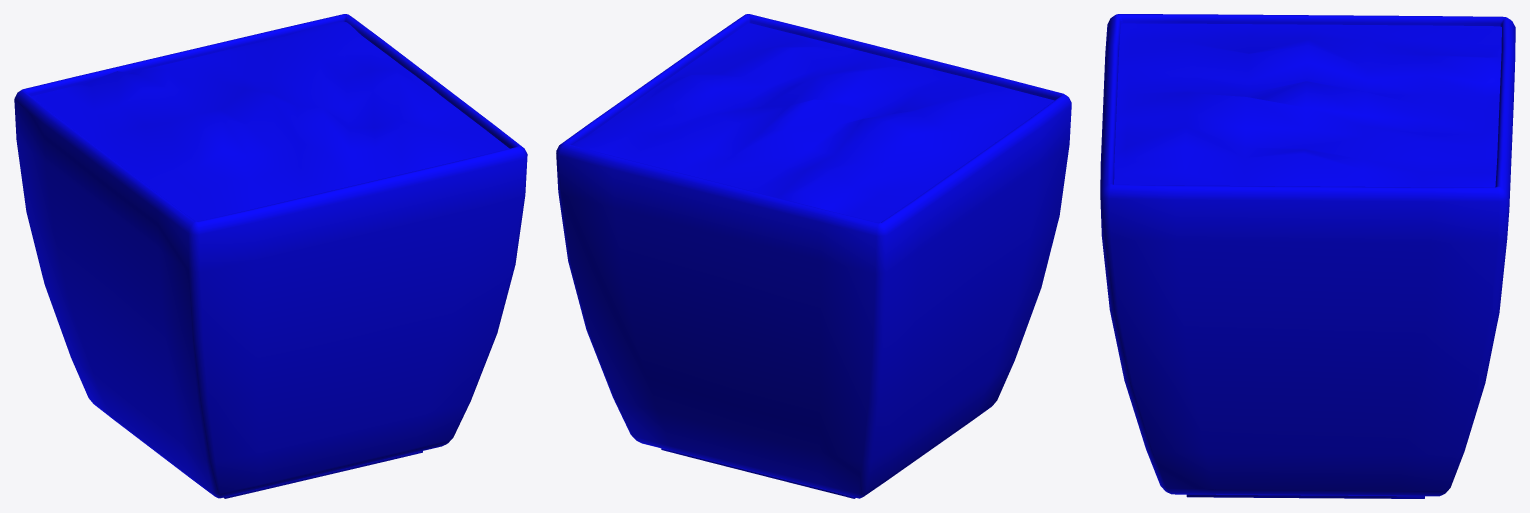
File: Plants Vases01.fbx
The picture shows the model from 3 angles, left to right: view 1: azimuth 30°, elevation 25°; view 2: azimuth 150°, elevation 25°; view 3: azimuth 270°, elevation 25°; orthographic projection. The views are drawn at different scales.
Visible parts, largest first — view 1: Plants Vases01; view 2: Plants Vases01; view 3: Plants Vases01.
Boxes of the visible parts, x1=… form: Plants Vases01: x1=14, y1=14, x2=527, y2=498; Plants Vases01: x1=556, y1=14, x2=1071, y2=498; Plants Vases01: x1=1100, y1=14, x2=1515, y2=498.
Bounding box in the file's own units: 374 × 352 × 363.
